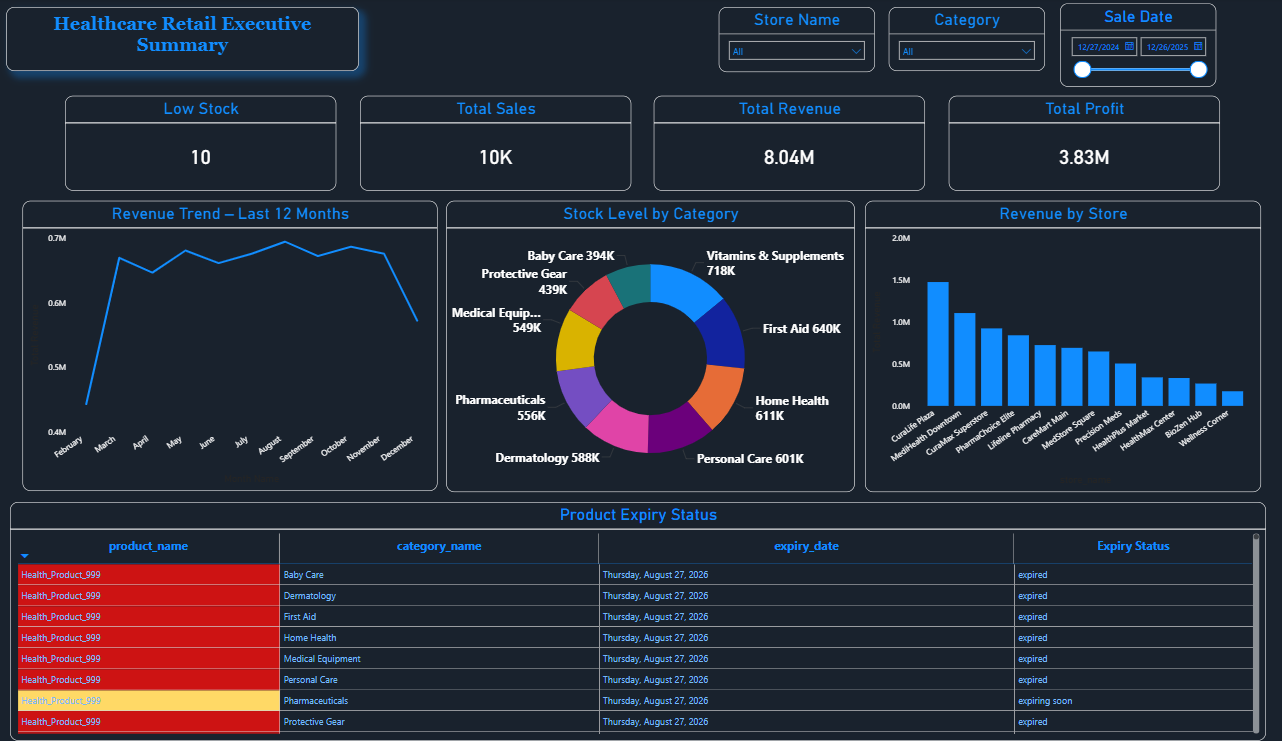

What the dashboard file says about the page in this screenshot:
{"tool":"powerbi","page":{"name":"Page 1","canvas":[1900,1100],"ordinal":0},"visuals":[{"type":"card","title":"Total Revenue","fields":{"Values":["sales data.Total_Revenue"]},"box":[971.8,145.6,400,140],"z":0},{"type":"card","title":"Total Profit","fields":{"Values":["sales data.Total_Profit"]},"box":[1406.2,145.6,400,140],"z":1000},{"type":"card","title":"Total Sales","fields":{"Values":["sales data.Total_Transactions"]},"box":[537.5,145.6,400,140],"z":2000},{"type":"card","title":"Low Stock","fields":{"Values":["stock data.Low_Stock_Count"]},"box":[103.1,145.6,400,140],"z":3000},{"type":"lineChart","title":"Revenue Trend – Last 12 Months","fields":{"Y":["sales data.Total_Revenue"],"Category":["DateTable.Month Name"]},"box":[40.5,300.7,611.9,427.6],"z":4000,"group":"g6"},{"type":"tableEx","title":"Product Expiry Status","fields":{"Values":["products.product_name","Categories Data.category_name","products.expiry_date","products.Expiry Status"]},"box":[22.1,744.6,1852.4,352],"z":4000},{"type":"group","id":"g1","title":"Group 1","box":[1067.6,9.2,733.6,123.5],"z":5000},{"type":"slicer","title":"Store Name","fields":{"Values":["Stores data.store_name"]},"box":[1067.6,14.7,230,95.8],"z":5000,"group":"g7"},{"type":"donutChart","title":"Stock Level by Category","fields":{"Category":["Categories Data.category_name"],"Y":["Sum(stock data.quantity)"]},"box":[665.3,300.7,602.7,429.5],"z":5000,"group":"g6"},{"type":"slicer","title":"Category","fields":{"Values":["Categories Data.category_name"]},"box":[1319.2,14.7,230,94],"z":6000,"group":"g7"},{"type":"group","id":"g2","title":"Group 3","box":[40.5,300.7,1826.6,429.5],"z":6000},{"type":"columnChart","title":"Revenue by Store","fields":{"Category":["Stores data.store_name"],"Y":["sales data.Total_Revenue"]},"box":[1282.8,300.7,584.3,429.5],"z":6000,"group":"g6"},{"type":"textbox","box":[16.6,14.7,519.8,94],"z":7000},{"type":"group","id":"g3","title":"Group 4","box":[40.5,300.7,1826.6,429.5],"z":8002,"group":"g2"},{"type":"group","id":"g4","title":"Group 5","box":[40.5,300.7,1826.6,429.5],"z":8002,"group":"g3"},{"type":"group","id":"g5","title":"Group 6","box":[40.5,300.7,1826.6,429.5],"z":8002,"group":"g4"},{"type":"group","id":"g6","title":"Group 7","box":[40.5,300.7,1826.6,429.5],"z":8002,"group":"g5"},{"type":"slicer","title":"Sale Date ","fields":{"Values":["DateTable.Date"]},"box":[1570.8,9.2,230.4,123.5],"z":9000,"group":"g7"},{"type":"group","id":"g7","title":"Group 2","box":[1067.6,9.2,733.6,123.5],"z":10002,"group":"g1"}]}

Visuals, with their boxes in screenshot pixels (x1, y1, x2, y2), scaled from the page's 1900x1100 canvas onto the 1282x741 screenshot:
"Total Revenue" card: 656, 98, 926, 192
"Total Profit" card: 949, 98, 1219, 192
"Total Sales" card: 363, 98, 633, 192
"Low Stock" card: 70, 98, 339, 192
"Revenue Trend – Last 12 Months" lineChart: 27, 203, 440, 491
"Product Expiry Status" tableEx: 15, 502, 1265, 739
"Group 1" group: 720, 6, 1215, 89
"Store Name" slicer: 720, 10, 876, 74
"Stock Level by Category" donutChart: 449, 203, 856, 492
"Category" slicer: 890, 10, 1045, 73
"Group 3" group: 27, 203, 1260, 492
"Revenue by Store" columnChart: 866, 203, 1260, 492
textbox: 11, 10, 362, 73
"Group 4" group: 27, 203, 1260, 492
"Group 5" group: 27, 203, 1260, 492
"Group 6" group: 27, 203, 1260, 492
"Group 7" group: 27, 203, 1260, 492
"Sale Date " slicer: 1060, 6, 1215, 89
"Group 2" group: 720, 6, 1215, 89
